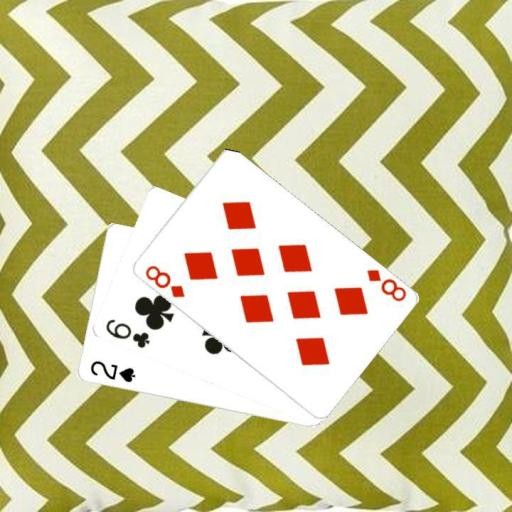2S: (87, 358, 137, 385)
6C: (102, 316, 151, 350)
8D: (363, 266, 408, 304), (141, 262, 186, 299)
